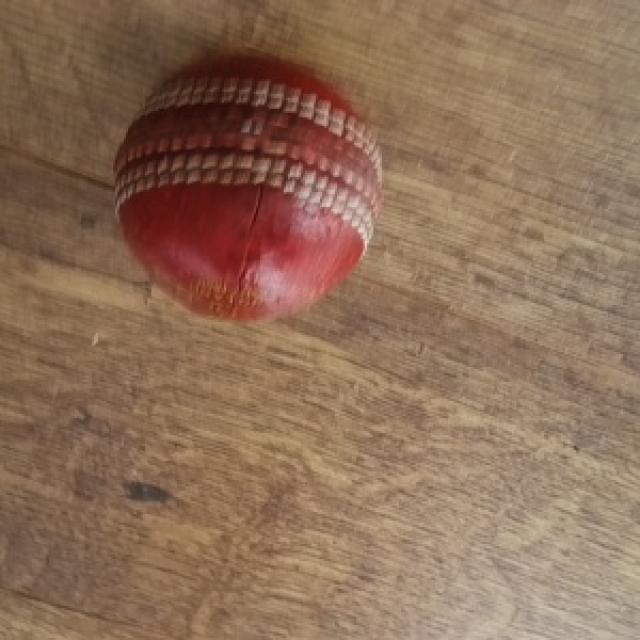ball: (111, 51, 386, 329)
